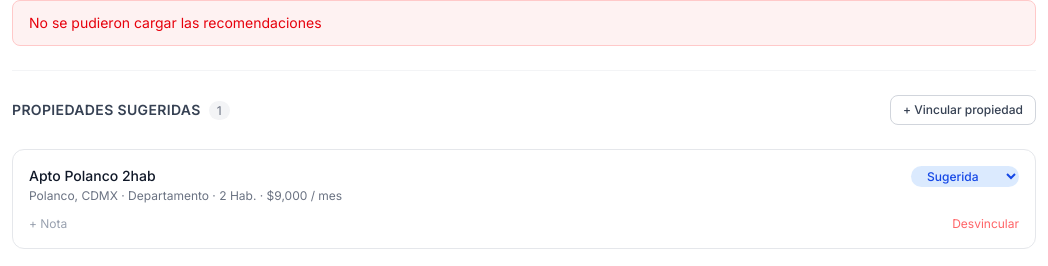
PropertiesTab unlink › removes card from UI after successful unlink
expect the link "Apto Polanco 2hab" is shown: met, box [29,167,156,184]
Click the button "Desvincular".
click(986, 224)  # box [952,216,1019,232]
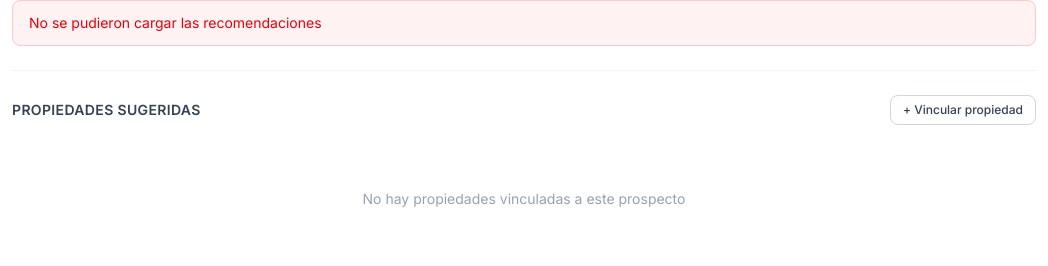
expect the link "Apto Polanco 2hab" is gone: met
